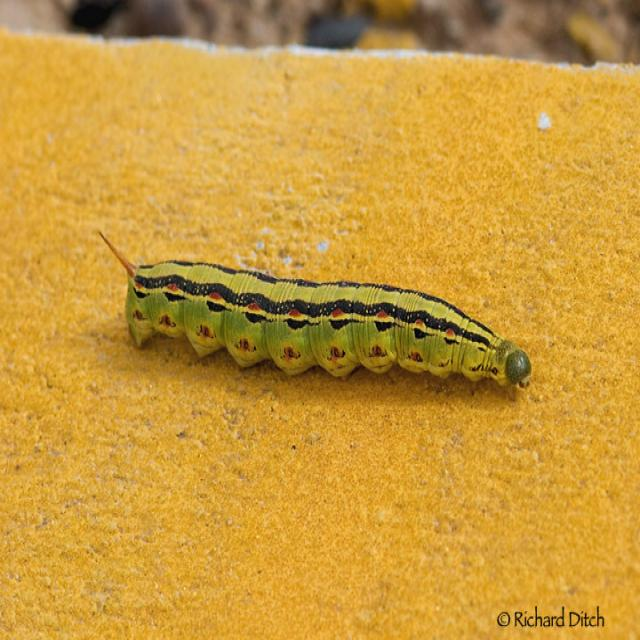worm: (99, 229, 533, 392)
